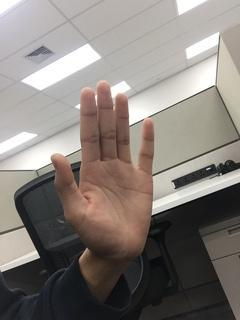hand: (48, 80, 156, 254)
